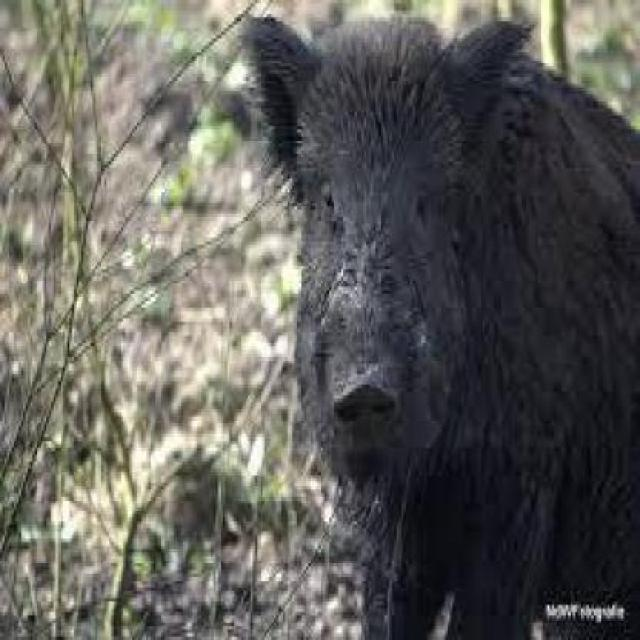wildboar: (236, 3, 638, 640)
